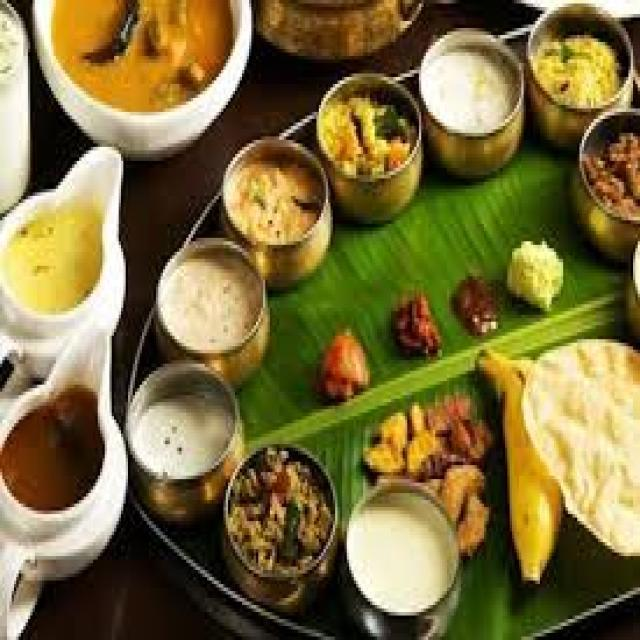dal: (530, 11, 629, 125)
papad: (518, 335, 640, 527)
rice: (125, 371, 245, 507)
sambar-rasam: (342, 477, 462, 628)
sweet: (42, 0, 245, 131), (219, 147, 333, 255), (534, 10, 630, 126), (313, 324, 379, 402)
veg-fry: (219, 440, 343, 601), (578, 124, 640, 223)
